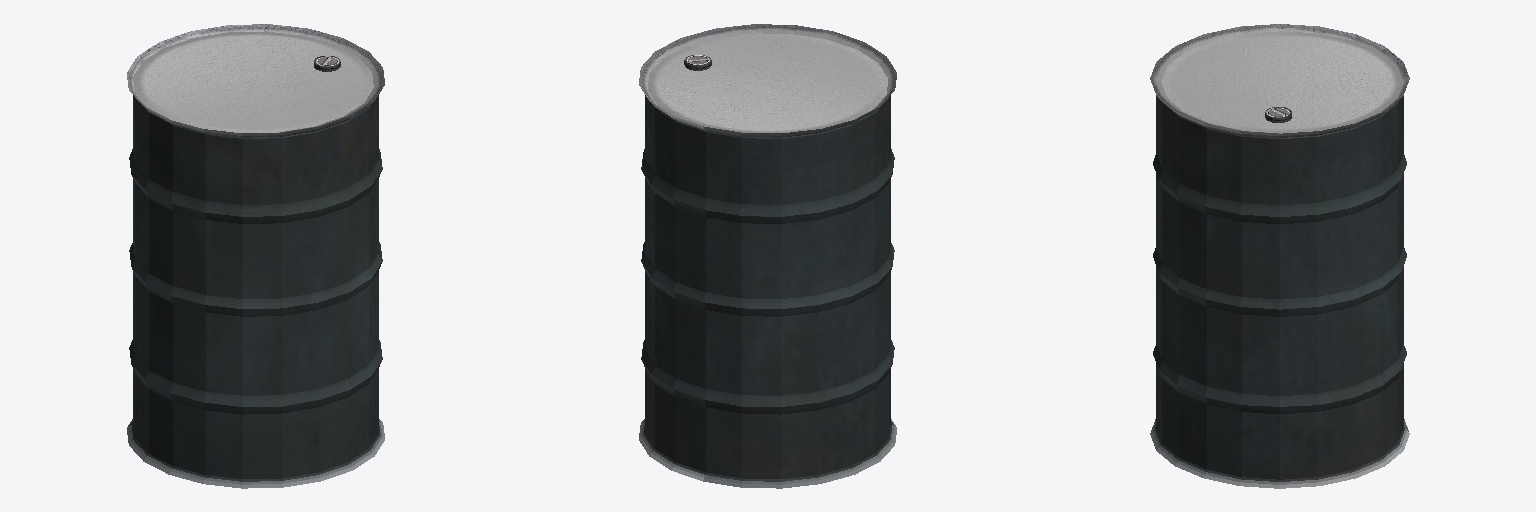
The picture shows the model from 3 angles: view 1: azimuth 30°, elevation 25°; view 2: azimuth 150°, elevation 25°; view 3: azimuth 270°, elevation 25°; orthographic projection.
Visible parts, largest first — view 1: metal_barrel_metal_barrel_metal_barrel; view 2: metal_barrel_metal_barrel_metal_barrel; view 3: metal_barrel_metal_barrel_metal_barrel.
Boxes of the visible parts, <box> form: metal_barrel_metal_barrel_metal_barrel: <box>127,24,384,488</box>; metal_barrel_metal_barrel_metal_barrel: <box>639,24,896,488</box>; metal_barrel_metal_barrel_metal_barrel: <box>1150,24,1409,488</box>.
Bounding box in the file's own units: 1.46 × 2.21 × 1.46.
Materials: 1 (1 with a texture image).